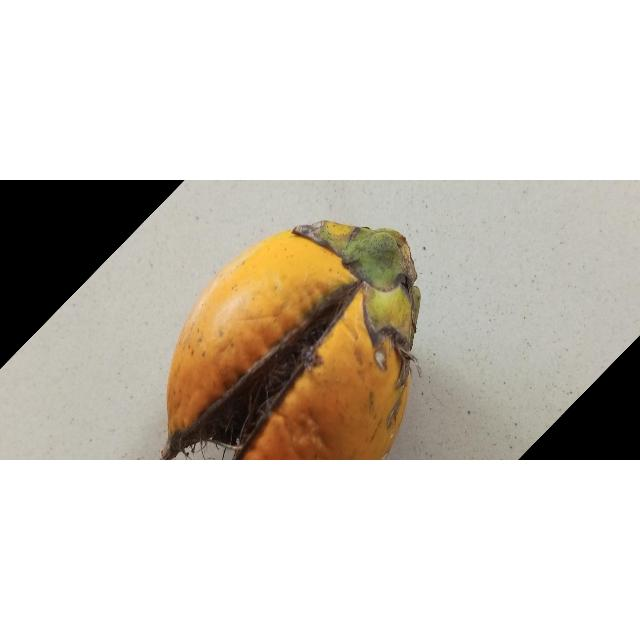damaged: (161, 221, 420, 461)
